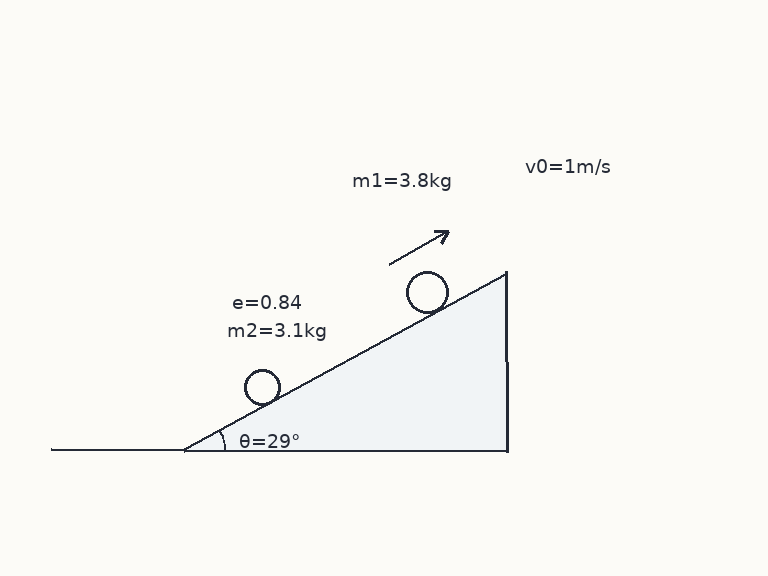ball: (404, 269, 450, 315), (242, 367, 282, 407)
ramp: (183, 270, 509, 452)
